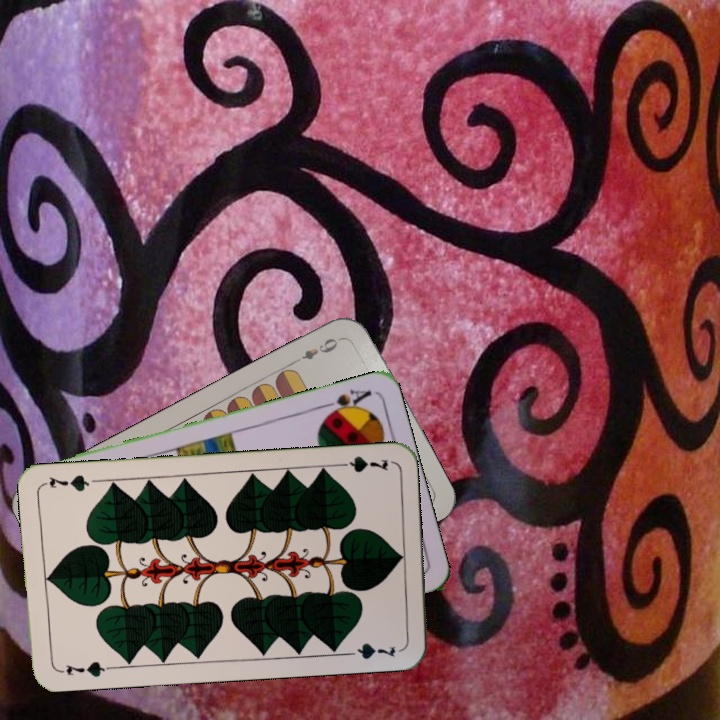E9: (297, 333, 345, 363)
G7: (332, 452, 391, 475), (54, 658, 113, 680)
SA: (316, 385, 375, 421)
